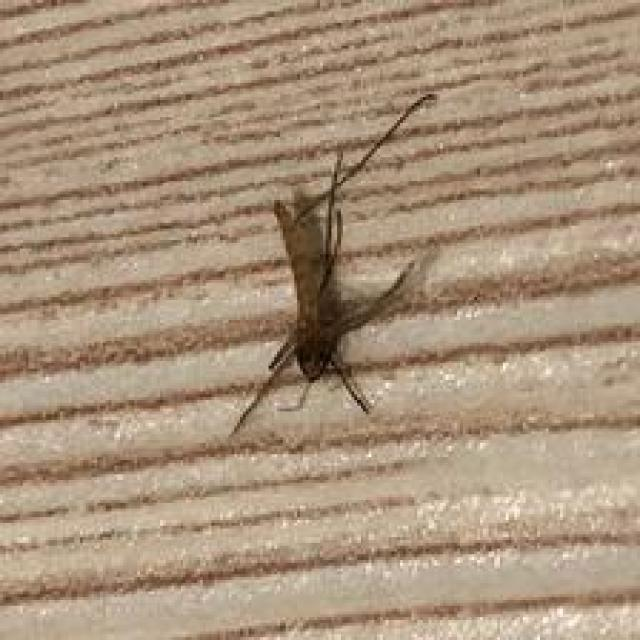Culex: (226, 90, 440, 439)
